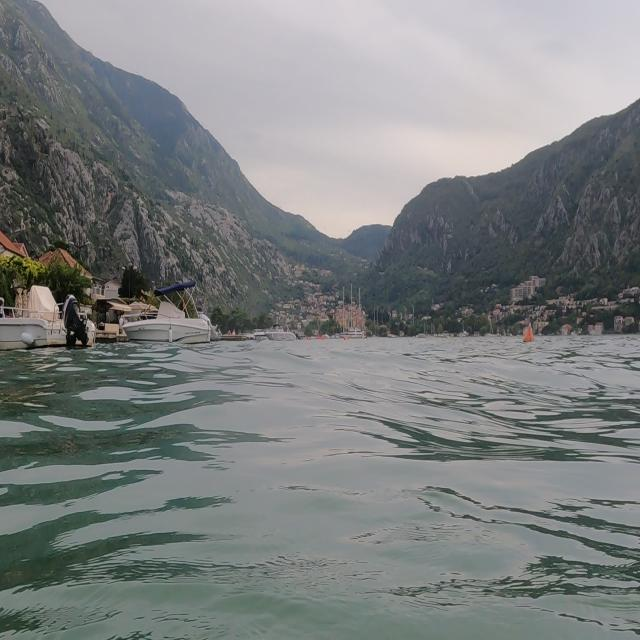boat: (0, 254, 104, 364), (119, 277, 214, 348), (337, 272, 372, 344), (260, 311, 307, 356)
buoy: (516, 316, 542, 350)
